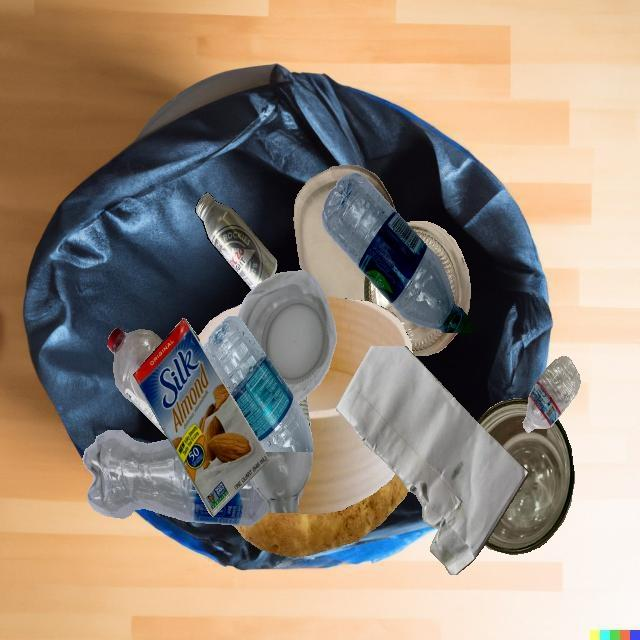biowaste: (234, 473, 408, 557)
cardboard: (133, 318, 269, 516)
combustible waste: (203, 296, 326, 512), (298, 296, 412, 513)
glass: (477, 398, 575, 555), (363, 275, 458, 356), (407, 221, 471, 315), (250, 452, 313, 513)
metal: (195, 192, 277, 291)
paper: (336, 346, 528, 575), (293, 165, 395, 301)
plastic: (321, 172, 473, 333), (83, 430, 269, 526), (203, 316, 314, 452), (237, 270, 337, 402), (107, 328, 167, 437), (523, 356, 580, 433)
